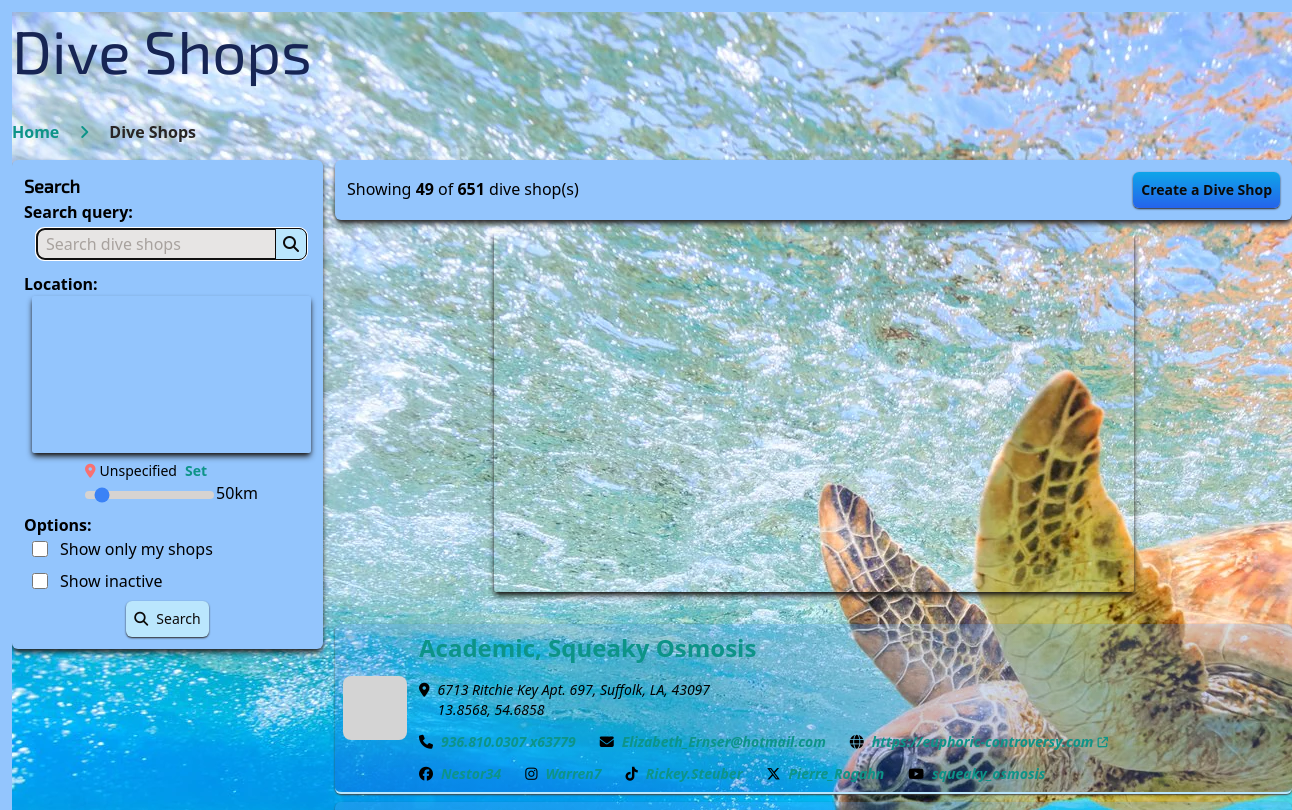
Test case: Operators view › will allow a user to perform a search
Type "deep site" into the field with id "operator-search" at [172, 244], box [36,228,307,260]
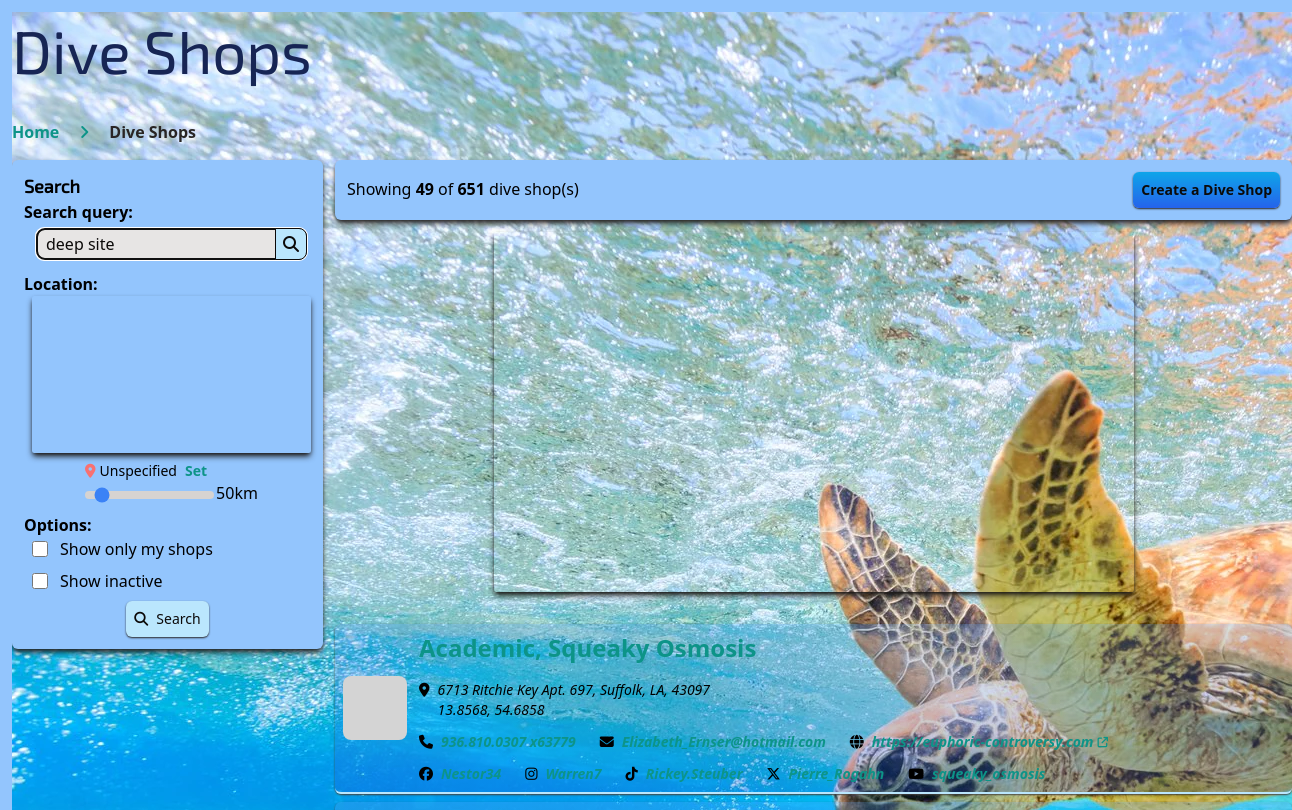
Click the checkbox with id "operator-show-mine" at [40, 549], box [32,541,48,557]
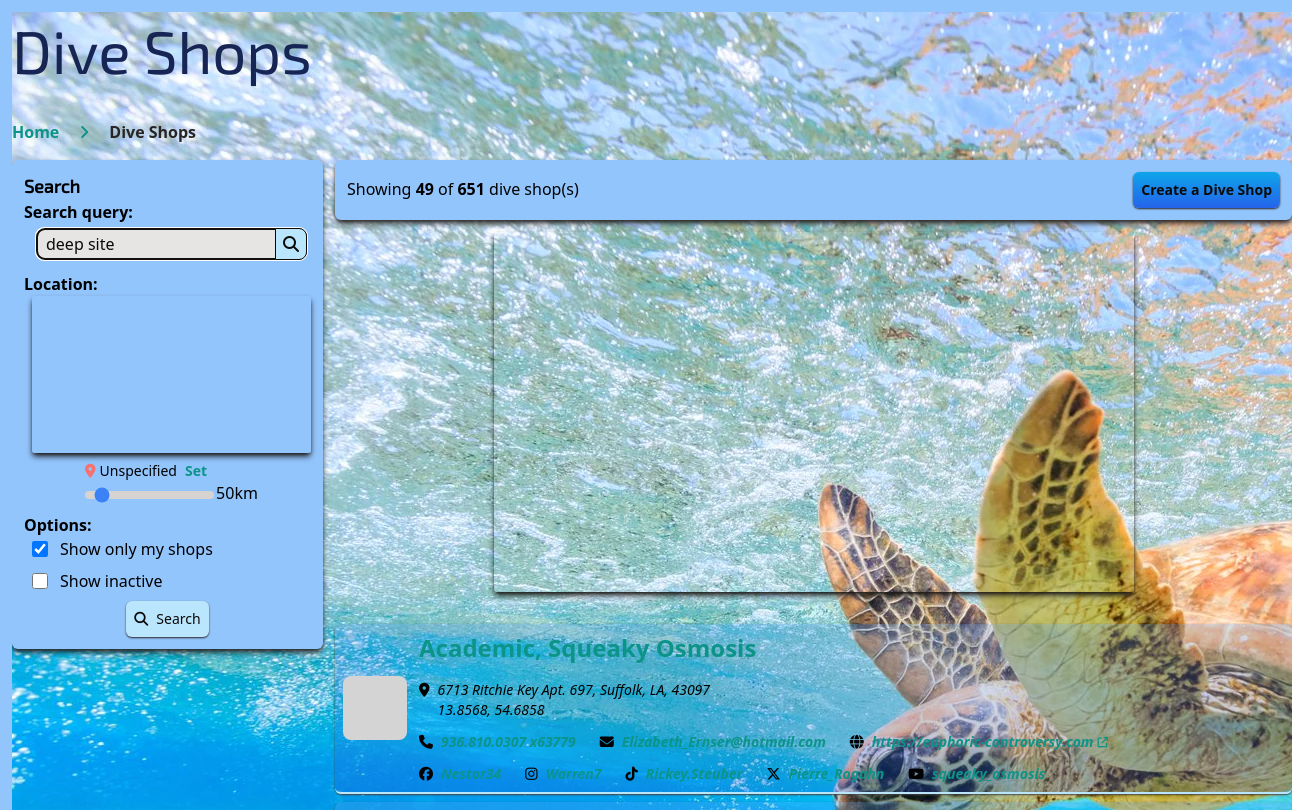
Click the checkbox with id "operator-show-inactive" at [40, 581], box [32,573,48,589]
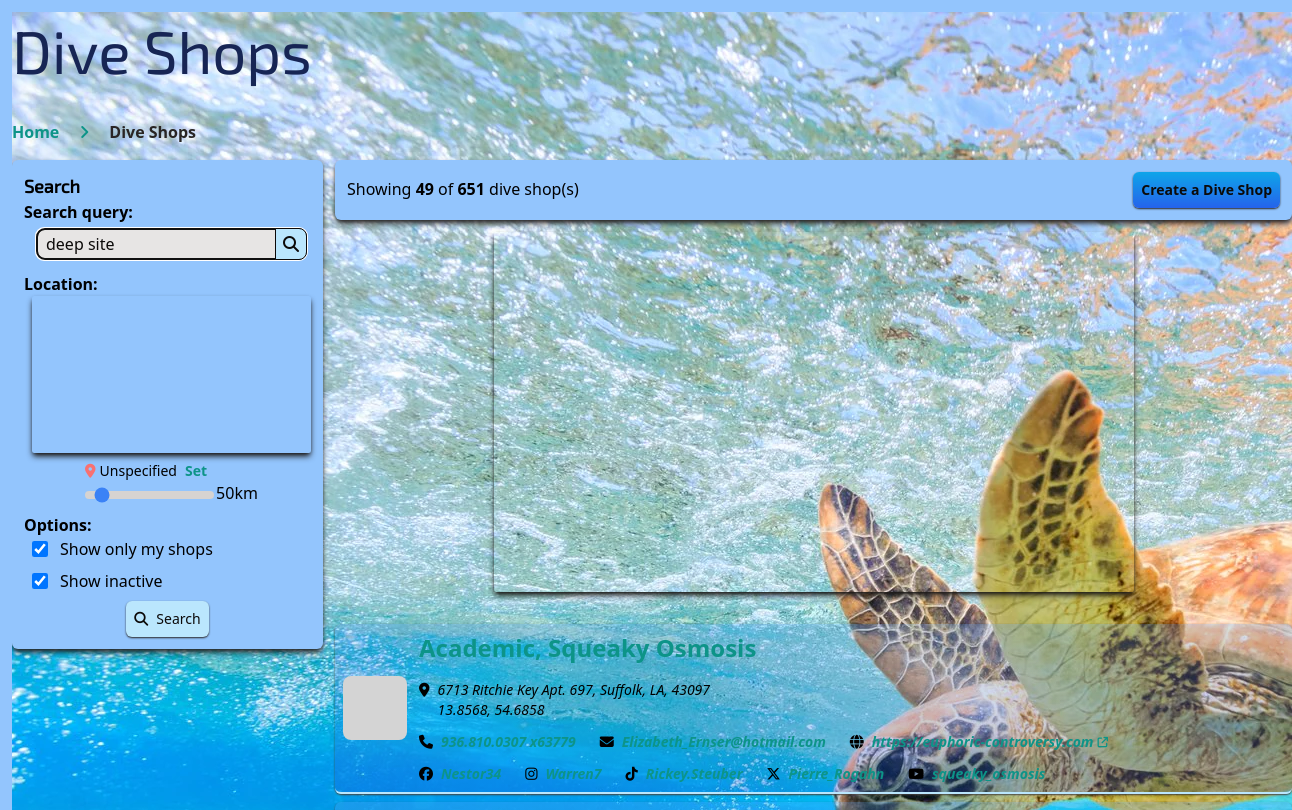
Click the button with id "btn-operator-search" at [167, 619], box [126,601,209,637]
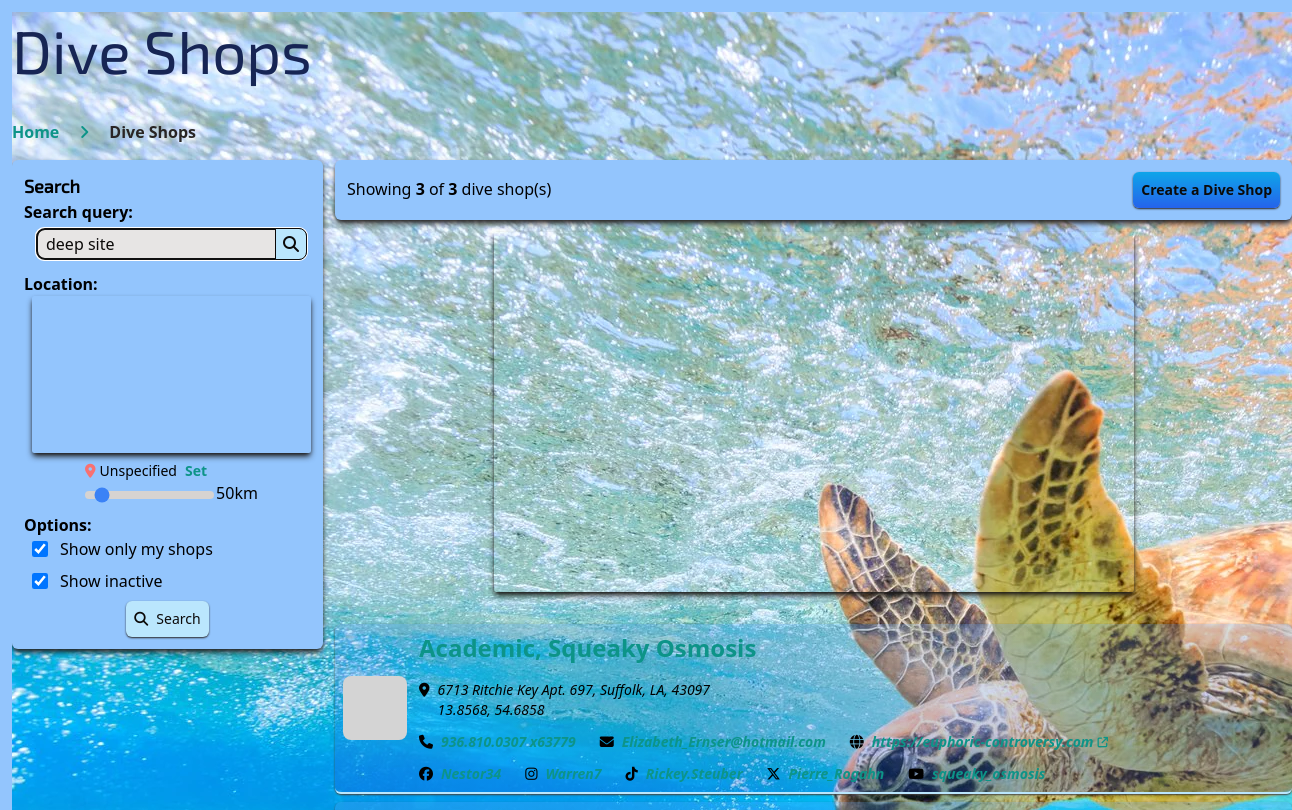
Expected: the element with test id "operators-count" reads "Showing 3 of 3 dive shop(s)", [347,177,551,201]
